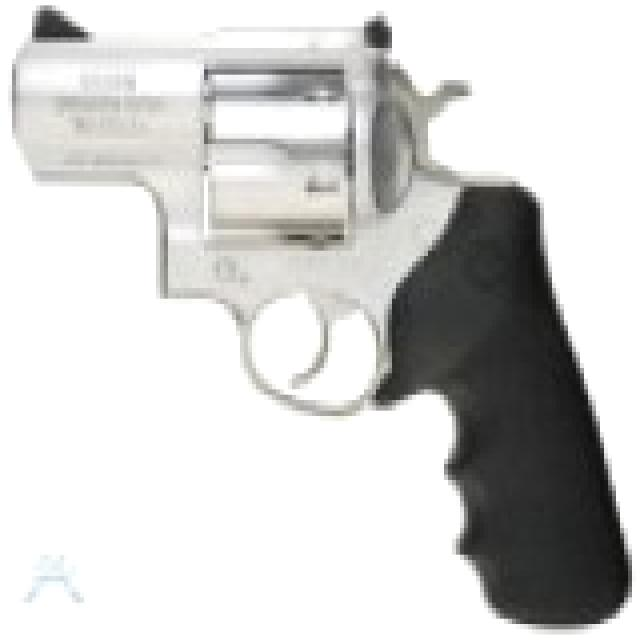pistol: (16, 0, 636, 619)
